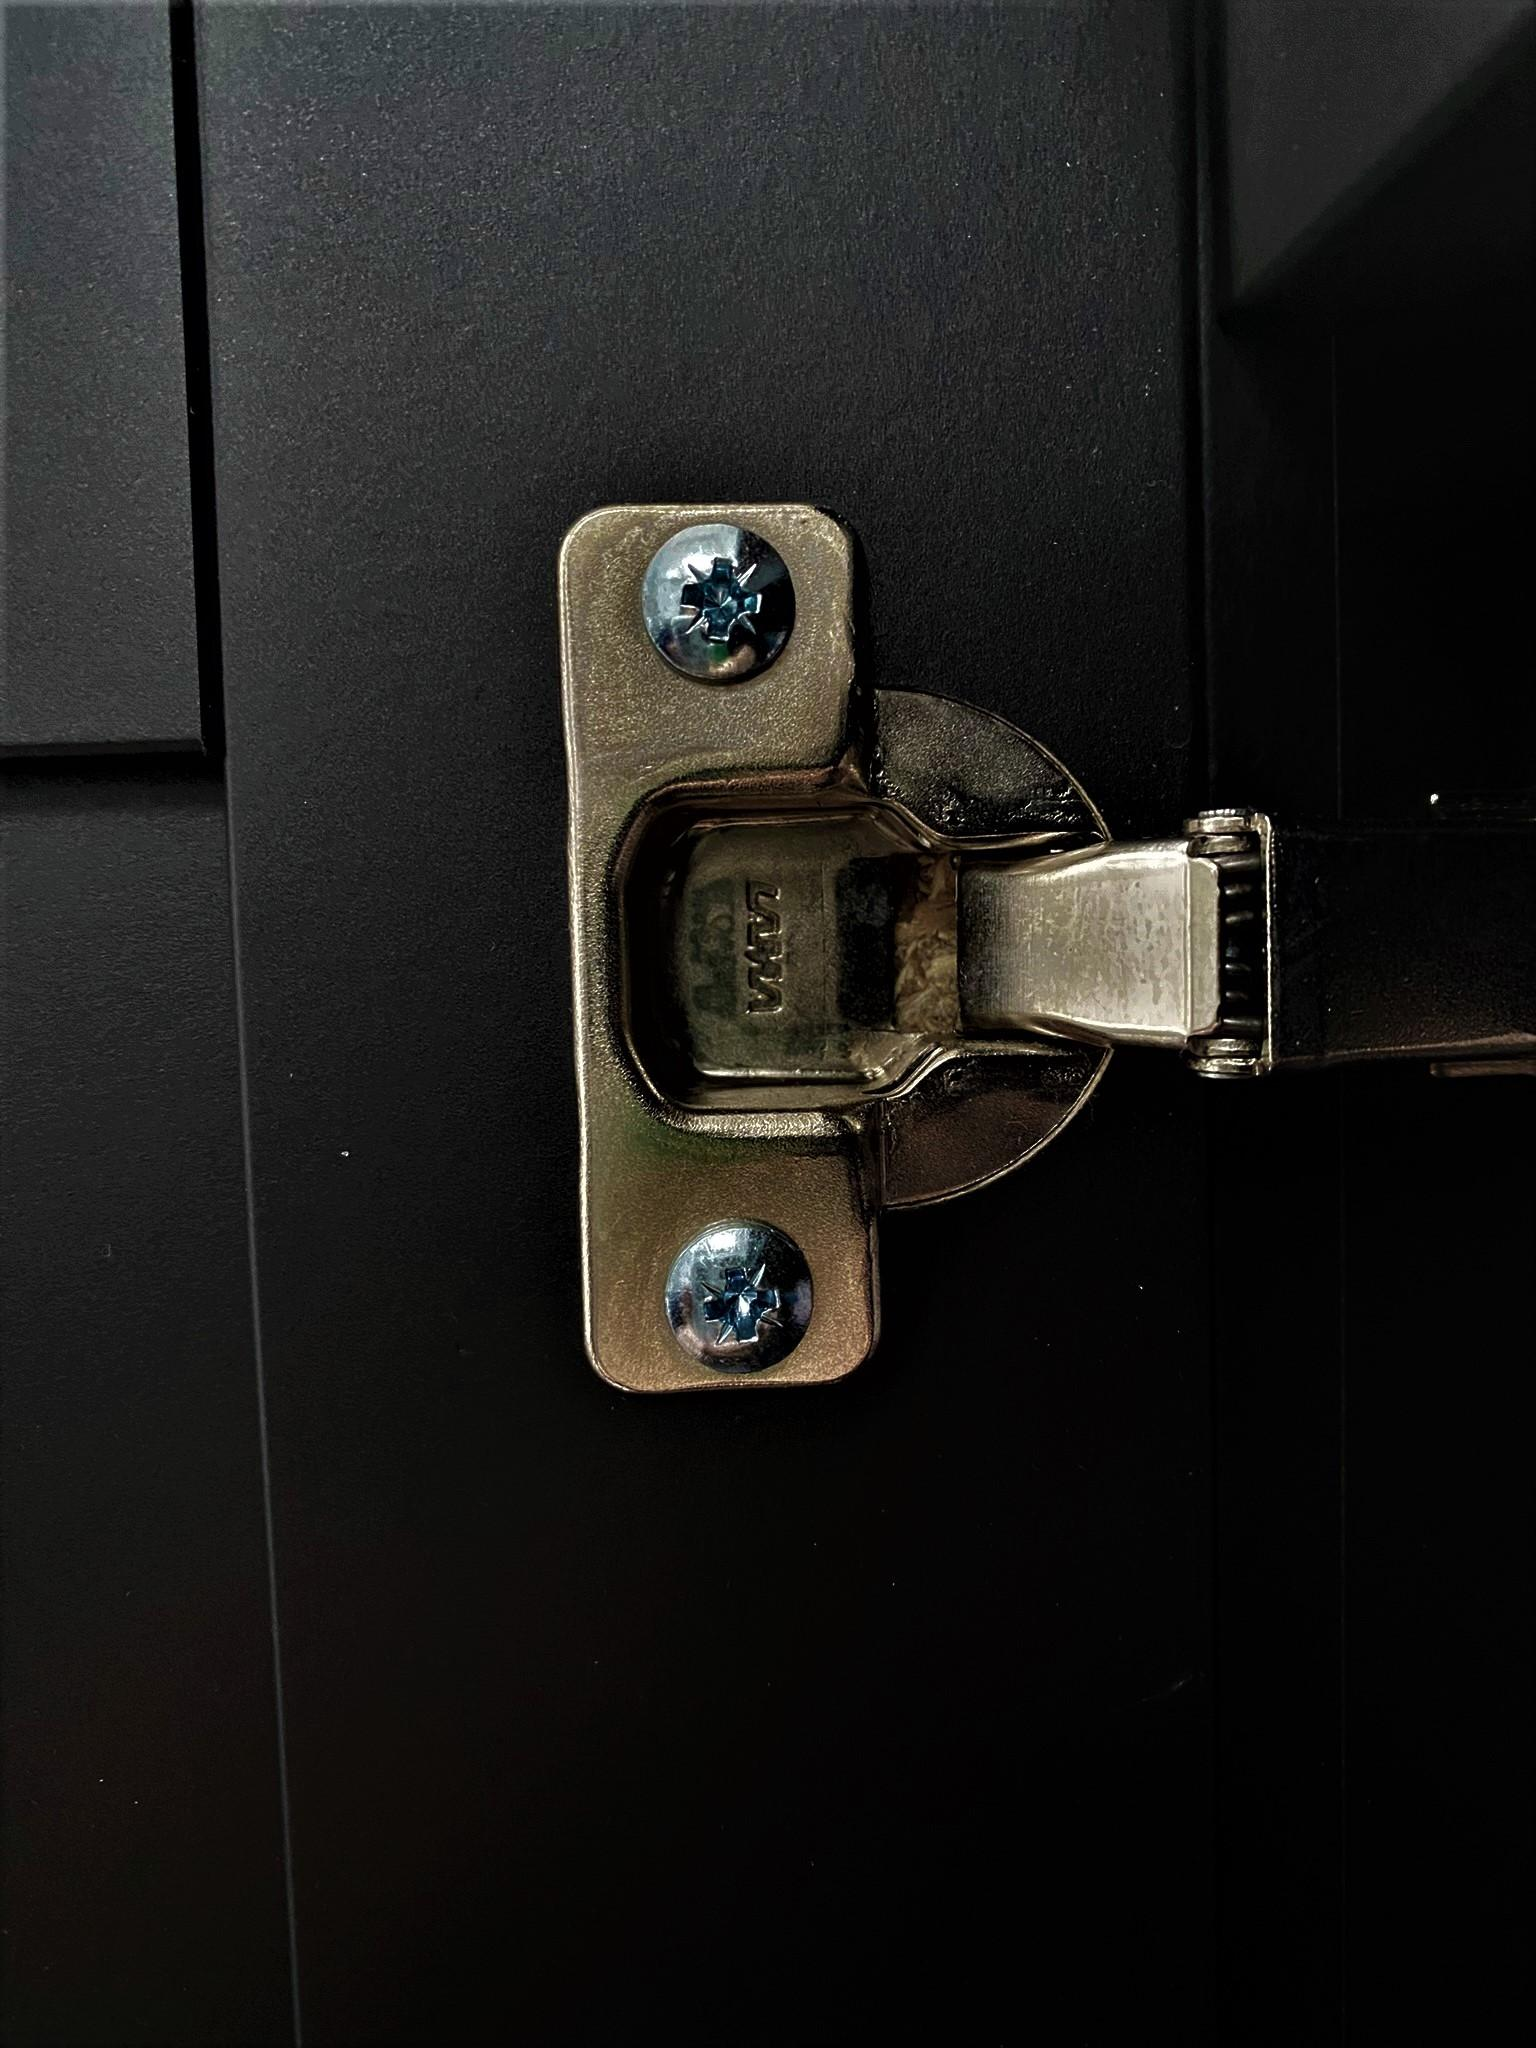PH: (637, 522, 802, 690), (666, 1218, 820, 1374)
